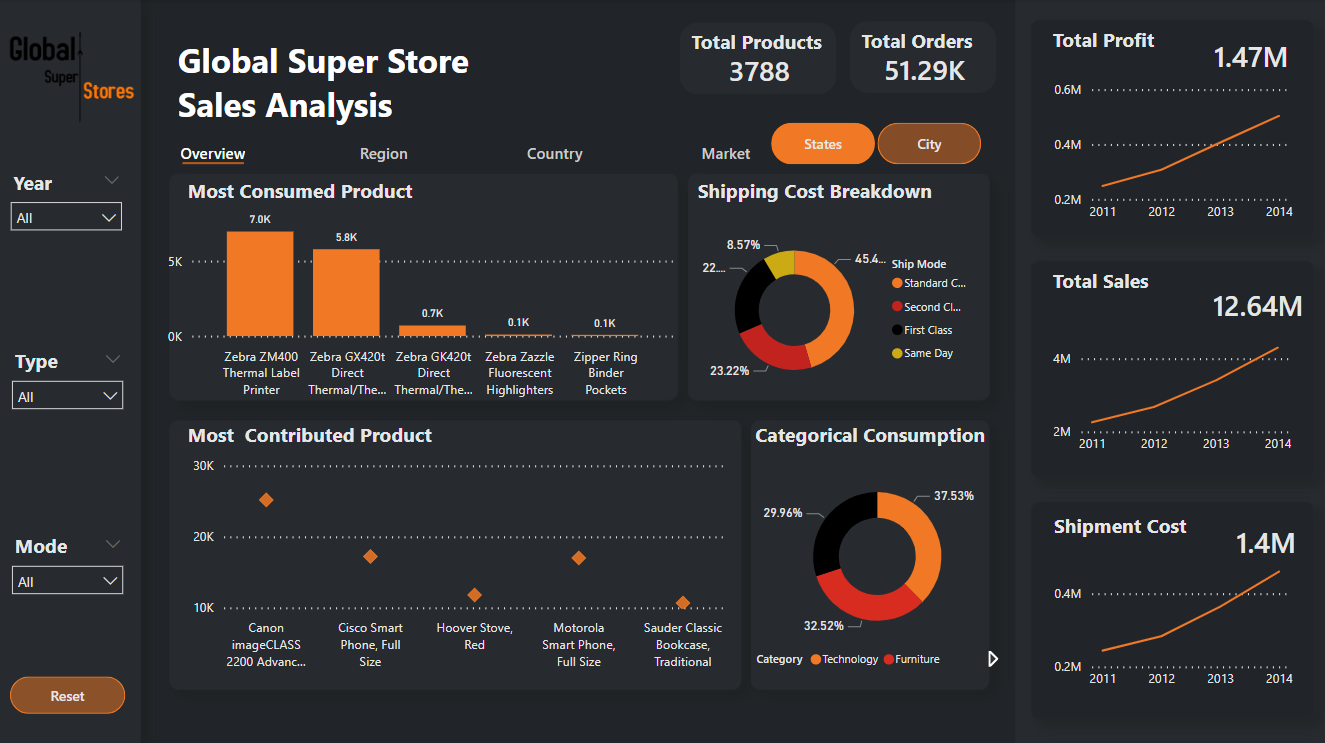

The page's visual inventory and layout, read from the dashboard file:
{"tool":"powerbi","page":{"name":"Overview","canvas":[1280,720],"ordinal":0},"visuals":[{"type":"textbox","box":[166.4,32.6,320.8,107.3],"z":0},{"type":"pageNavigator","box":[127.5,131.6,652.6,35.6],"z":1000},{"type":"shape","box":[175.5,149.4,59,17.8],"z":2000},{"type":"clusteredColumnChart","fields":{"Y":["Sum(Orders.Sales)"],"Category":["Orders.Product Name"]},"box":[156.3,190.6,499.1,201.5],"z":3000},{"type":"textbox","box":[175.5,167.3,255,56.2],"z":4000},{"type":"donutChart","fields":{"Category":["Orders.Ship Mode"],"Y":["Sum(Orders.Shipping Cost)"]},"box":[667.7,208.4,278.3,183.7],"z":5000},{"type":"textbox","box":[667.7,167.3,250.9,56.2],"z":6000},{"type":"textbox","box":[175.5,403.1,255,65.8],"z":7000},{"type":"textbox","box":[1010.5,21.9,241.3,39.8],"z":8000},{"type":"scatterChart","fields":{"X":["Orders.Product Name"],"Y":["Sum(Orders.Profit)"]},"box":[165.9,436,544.3,218],"z":9000},{"type":"textbox","box":[723.6,402.8,237.6,56.7],"z":10000},{"type":"lineChart","fields":{"Y":["Sum(Orders.Profit)"],"Category":["Orders.Order Date.Variation.Date Hierarchy.Year"]},"box":[1011.8,74,239.9,149.4],"z":11000},{"type":"card","fields":{"Values":["Orders.Total_Profit"]},"box":[1163.8,21.7,86.8,68.7],"z":12000},{"type":"textbox","box":[1010.5,255,154.9,45.2],"z":13000},{"type":"lineChart","fields":{"Category":["Orders.Order Date.Variation.Date Hierarchy.Year"],"Y":["Sum(Orders.Sales)"]},"box":[1010.5,297.5,239.9,149.4],"z":14000},{"type":"lineChart","fields":{"Category":["Orders.Order Date.Variation.Date Hierarchy.Year"],"Y":["Sum(Orders.Shipping Cost)"]},"box":[1011.8,525.1,239.9,149.4],"z":15000},{"type":"card","fields":{"Values":["Sum(Orders.Shipping Cost)"]},"box":[1177.7,490.8,86.4,68.6],"z":16000},{"type":"card","fields":{"Values":["Sum(Orders.Sales)"]},"box":[1164,263.2,100.1,68.6],"z":17000},{"type":"textbox","box":[1011.8,490.8,165.9,54.8],"z":18000},{"type":"slicer","fields":{"Values":["Orders.Order Date.Variation.Date Hierarchy.Year"]},"box":[0,159,127.5,71.3],"z":19000},{"type":"slicer","fields":{"Values":["Orders.Segment"]},"box":[1.4,331.8,127.5,71.3],"z":20000},{"type":"slicer","fields":{"Values":["Orders.Ship Mode"]},"box":[1.4,510,127.5,71.3],"z":21000},{"type":"actionButton","box":[9.6,654,111.1,35.6],"z":22000},{"type":"actionButton","box":[744.1,119.4,100.1,39.8],"z":23000},{"type":"actionButton","box":[846.6,119.4,100.1,39.8],"z":24000},{"type":"card","title":"Total Orders","fields":{"Values":["Orders.order"]},"box":[820.1,21.7,141.1,68.7],"z":25000},{"type":"card","title":"Total Products","fields":{"Values":["product.productcount"]},"box":[656.1,22.9,150.8,68.7],"z":26000},{"type":"donutChart","fields":{"Category":["Orders.Category"],"Y":["Sum(Orders.Sales)"]},"box":[724.8,447.4,243.6,207.4],"z":27000},{"type":"image","box":[1.2,0,135.1,158],"z":28000}]}

Visuals, with their boxes in screenshot pixels (x1, y1, x2, y2), scaled from the page's 1280x720 canvas onto the 1325x743 screenshot:
textbox: rect(172, 34, 504, 144)
pageNavigator: rect(132, 136, 808, 173)
shape: rect(182, 154, 243, 173)
clusteredColumnChart - Sum(Orders.Sales) x Orders.Product Name: rect(162, 197, 678, 405)
textbox: rect(182, 173, 446, 231)
donutChart - Orders.Ship Mode x Sum(Orders.Shipping Cost): rect(691, 215, 979, 405)
textbox: rect(691, 173, 951, 231)
textbox: rect(182, 416, 446, 484)
textbox: rect(1046, 23, 1296, 64)
scatterChart - Orders.Product Name x Sum(Orders.Profit): rect(172, 450, 735, 675)
textbox: rect(749, 416, 995, 474)
lineChart - Sum(Orders.Profit) x Orders.Order Date.Variation.Date Hierarchy.Year: rect(1047, 76, 1296, 231)
card - Orders.Total_Profit: rect(1205, 22, 1295, 93)
textbox: rect(1046, 263, 1206, 310)
lineChart - Orders.Order Date.Variation.Date Hierarchy.Year x Sum(Orders.Sales): rect(1046, 307, 1294, 461)
lineChart - Orders.Order Date.Variation.Date Hierarchy.Year x Sum(Orders.Shipping Cost): rect(1047, 542, 1296, 696)
card - Sum(Orders.Shipping Cost): rect(1219, 506, 1309, 577)
card - Sum(Orders.Sales): rect(1205, 272, 1309, 342)
textbox: rect(1047, 506, 1219, 563)
slicer - Orders.Order Date.Variation.Date Hierarchy.Year: rect(0, 164, 132, 238)
slicer - Orders.Segment: rect(1, 342, 133, 416)
slicer - Orders.Ship Mode: rect(1, 526, 133, 600)
actionButton: rect(10, 675, 125, 712)
actionButton: rect(770, 123, 874, 164)
actionButton: rect(876, 123, 980, 164)
"Total Orders" card: rect(849, 22, 995, 93)
"Total Products" card: rect(679, 24, 835, 95)
donutChart - Orders.Category x Sum(Orders.Sales): rect(750, 462, 1002, 676)
image: rect(1, 0, 141, 163)
